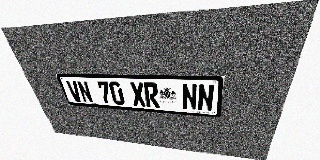0: (108, 82, 125, 105)
7: (96, 81, 113, 104)
N: (197, 84, 215, 112), (76, 81, 94, 103), (182, 84, 197, 110)
R: (143, 83, 160, 108)
V: (65, 80, 84, 102)
X: (129, 82, 146, 107)
